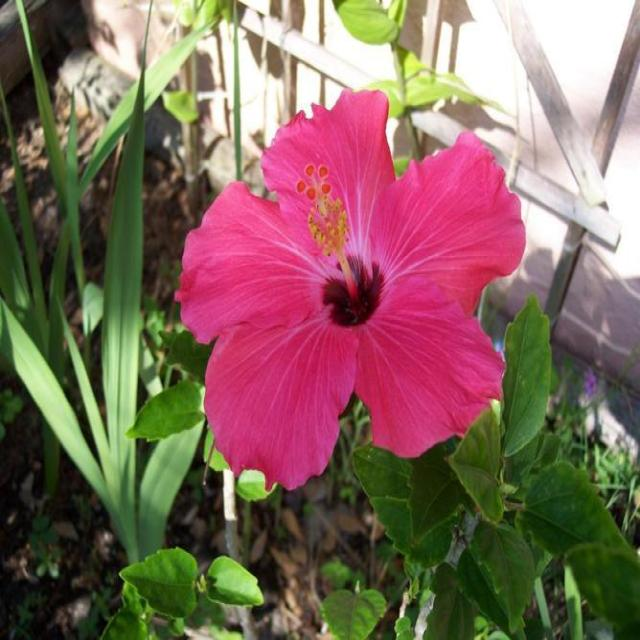hibiscus: (205, 46, 521, 569)
